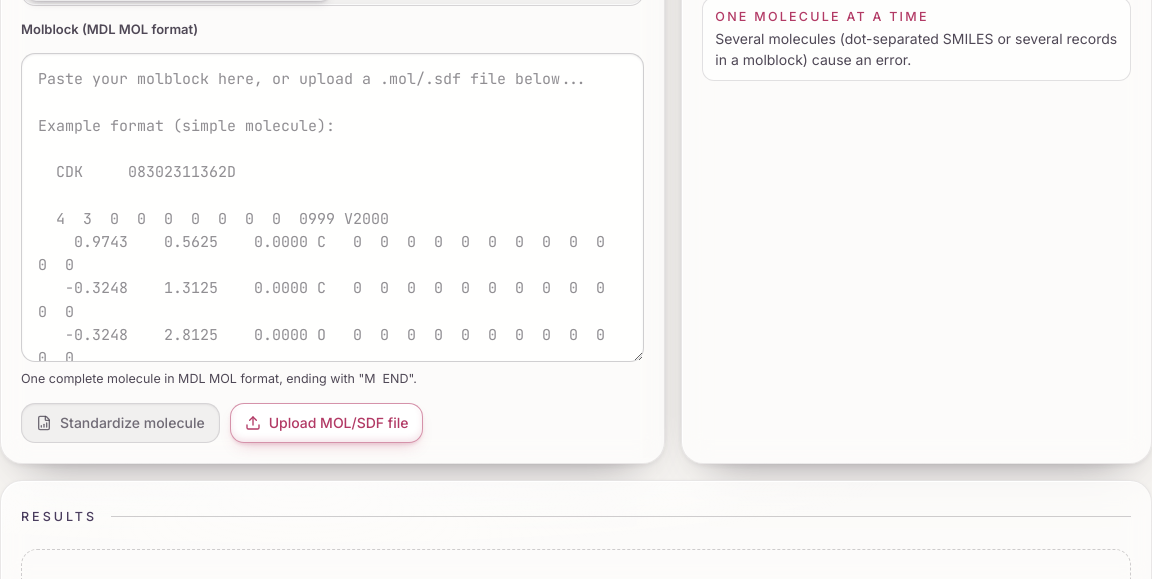
Test: StandardizeView (bento) › standardizes a pasted molblock and shows the identifiers
Step 1. Replace the text in the text box labelled "Molblock (MDL MOL format)" with "   RDKit          2D   3  2  0  0  0  0  0  0  0  0999 V2000     0.0000    0.0000    0.0000 C   0  0     1.2990    0.7500    0.0000 C   0  0     2.5981   -0.0000    0.0000 O   0  0   1  2  1  0   2  3" → (333, 208), box [21,53,644,362]
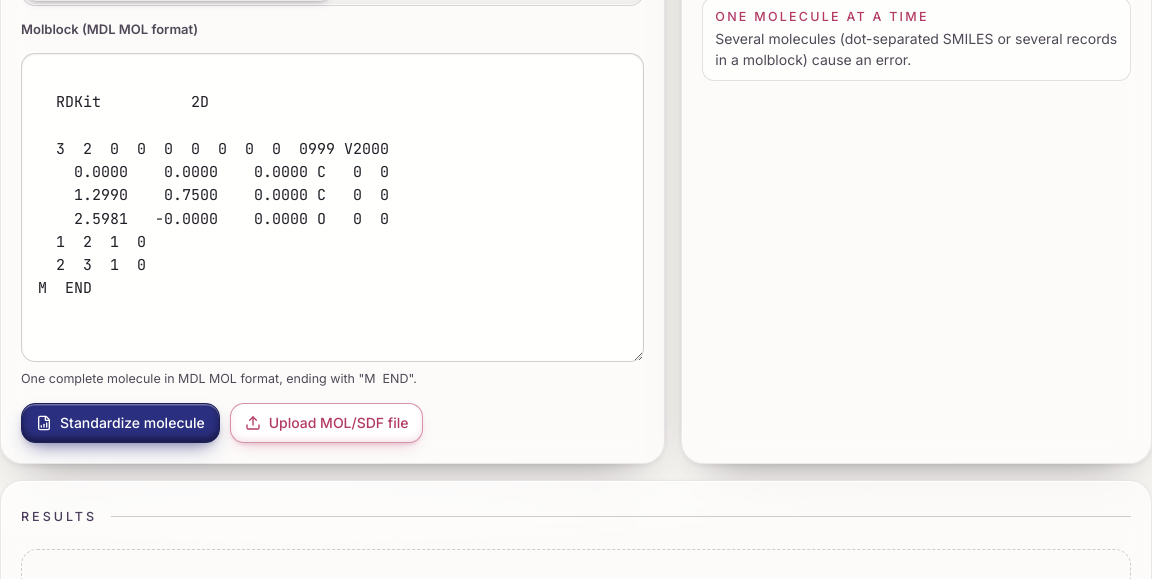
Step 2. Click the button "Standardize molecule" → (120, 423), box [21,403,220,443]
(page scrolled)
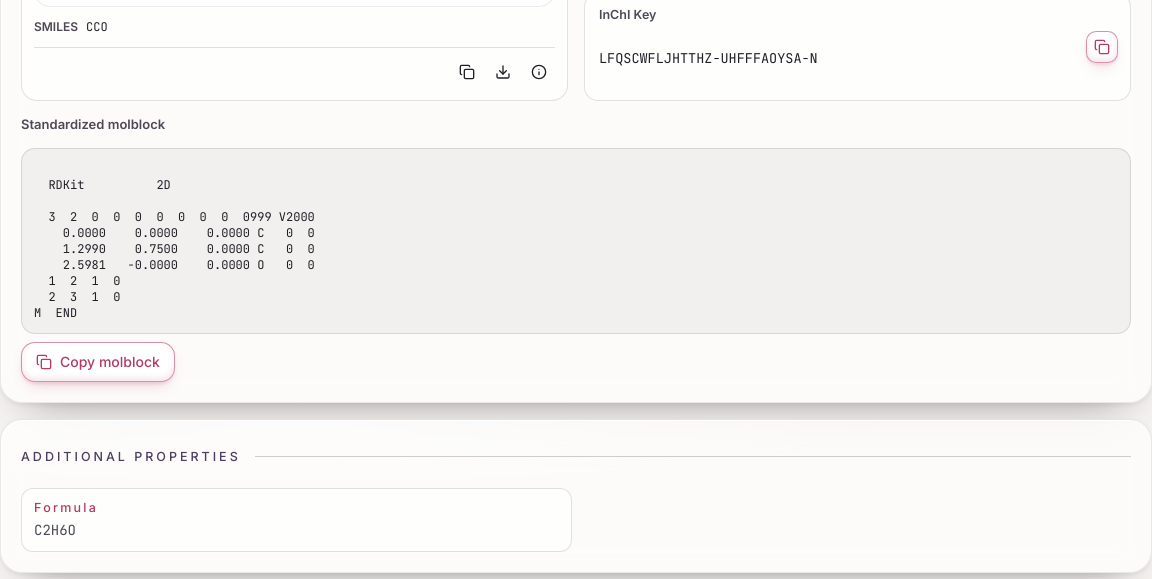
expect the text "LFQSCWFLJHTTHZ-UHFFFAOYSA-N" is shown: met, box [599,49,818,67]
expect the button "Copy molblock" is shown: met, box [21,342,175,382]
expect the text "C2H6O" is shown: met, box [34,521,76,539]
